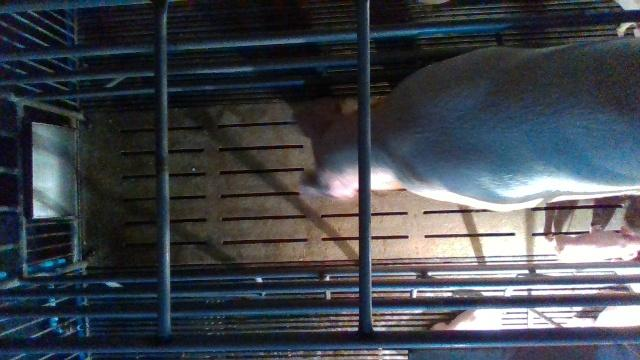piglet: (545, 224, 640, 263)
sow-stand: (294, 37, 640, 213)
